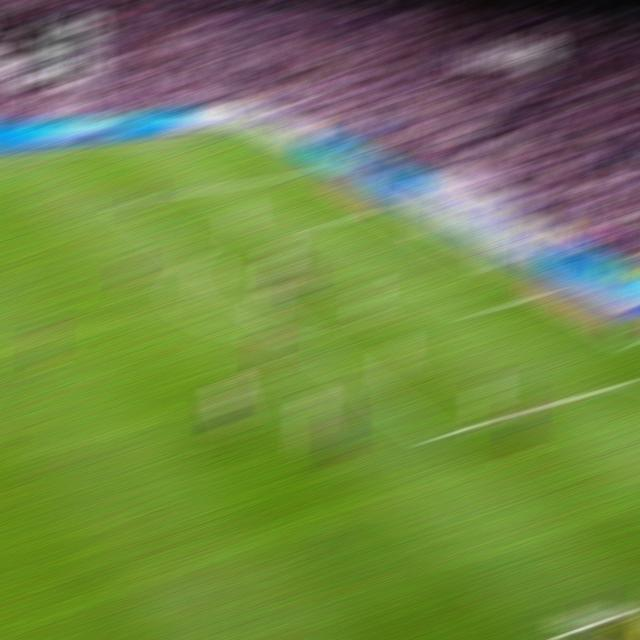bigarea_bottom_inner: (422, 425, 448, 447)
bigarea_top_inner: (111, 198, 132, 207)
bigarea_top_outter: (294, 165, 318, 176)
bottom_arc_area_intersection: (290, 331, 314, 342)
corner: (218, 127, 244, 134)
smallarea_top_inner: (312, 218, 332, 227)
top_arc_area_intersection: (184, 252, 204, 261)
